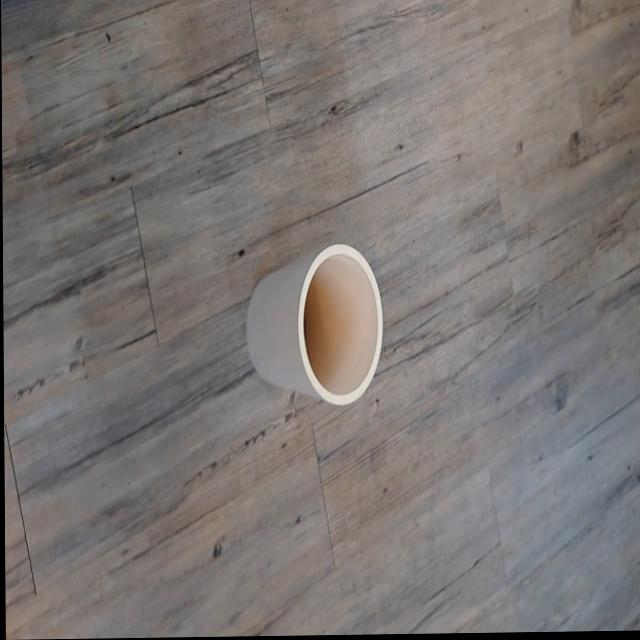CORAL: (224, 205, 399, 425)
